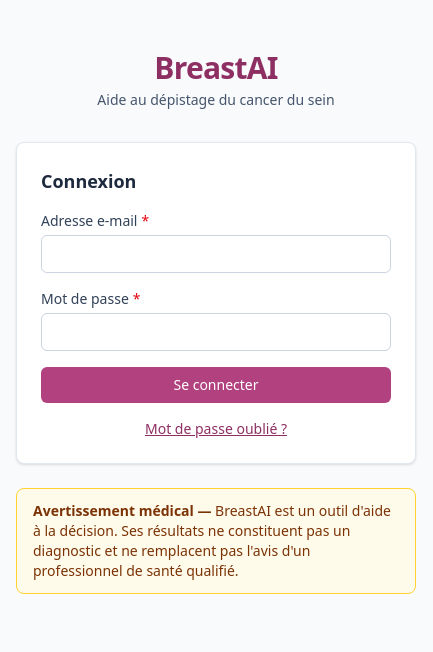
it: Connexion › affiche un message compréhensible en cas de quota dépassé
The width and height of the screenshot is (433, 652).
In the field labelled "Adresse e-mail*": (216, 254) x1=41 y1=235 x2=391 y2=273, type "medecin@breastai.td"
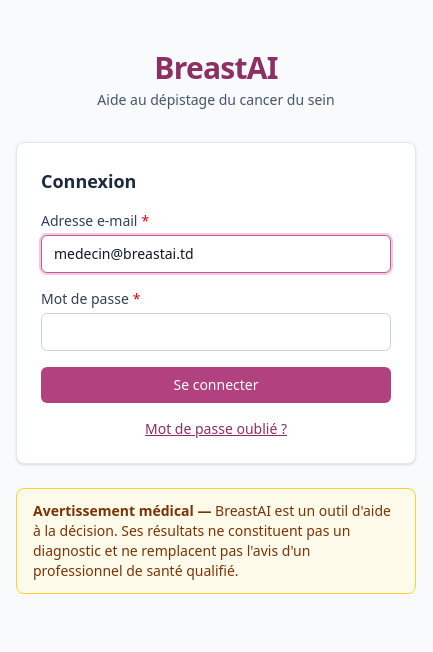
In the password field labelled "Mot de passe*": (216, 332) x1=41 y1=313 x2=391 y2=351, type "MotDePasseTest-2026"
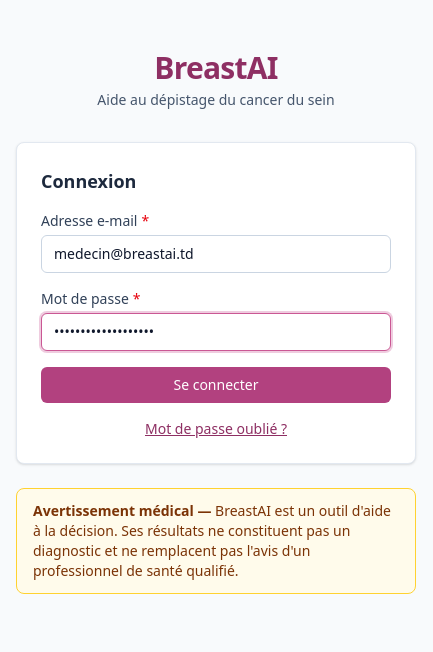
Click the button "Se connecter": (216, 385) x1=41 y1=367 x2=391 y2=403
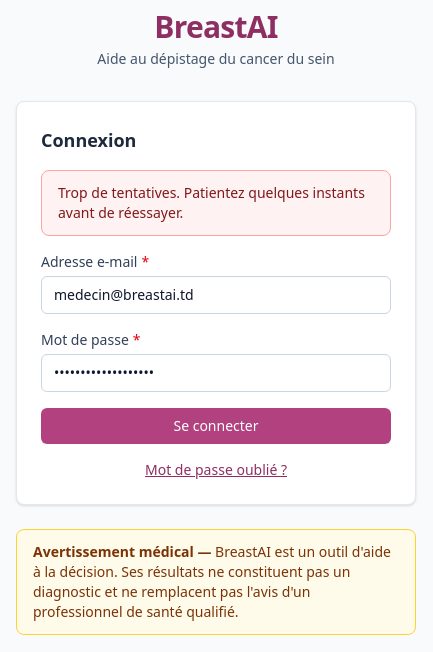
Now the text "Trop de tentatives. Patientez quelques instants avant de réessayer." is shown, box x1=41 y1=170 x2=391 y2=236
